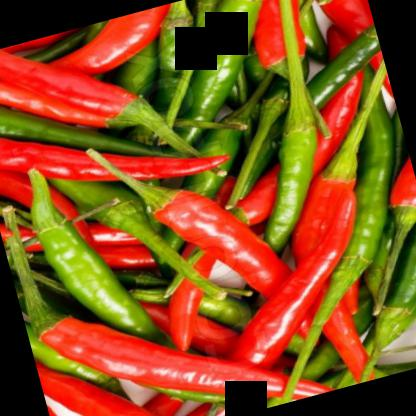chilli: (0, 146, 345, 415), (179, 56, 415, 409), (83, 104, 326, 386), (138, 186, 400, 415), (0, 0, 245, 195), (0, 4, 206, 214), (0, 67, 229, 224), (10, 146, 167, 370), (133, 0, 338, 155)
